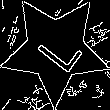L_NW: (27, 22, 83, 77)
